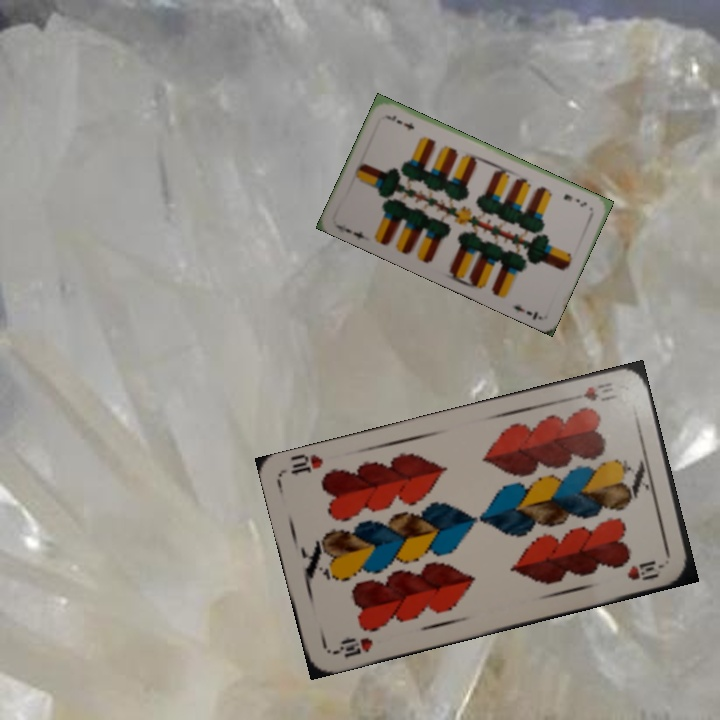E7: (559, 190, 589, 210), (340, 224, 367, 242)
H10: (329, 633, 376, 660), (579, 378, 620, 404)
